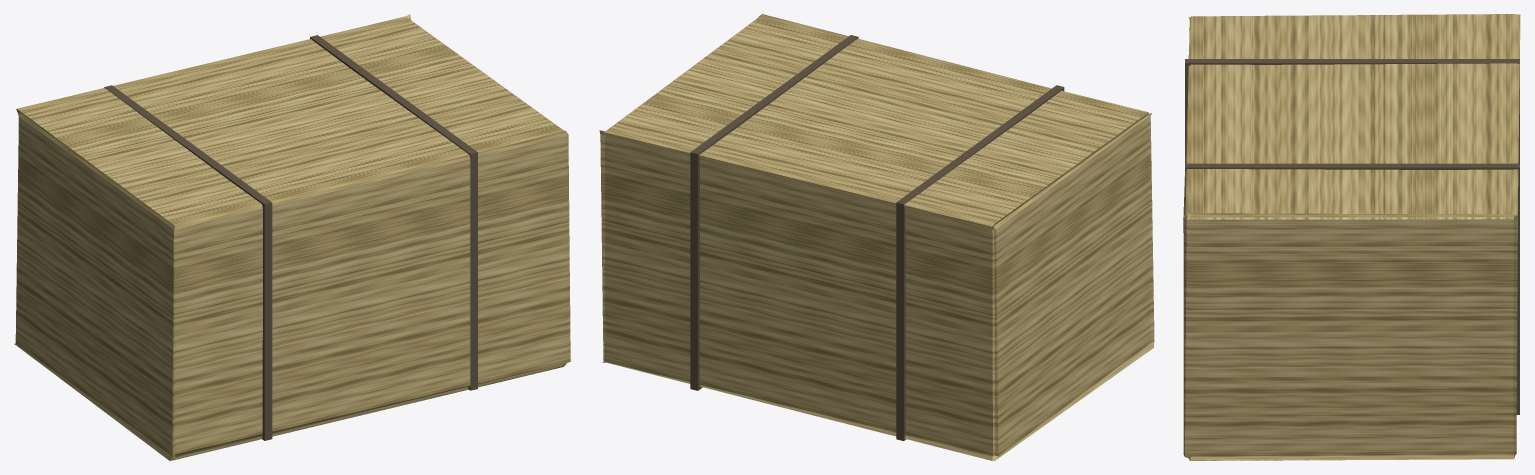
File: hay_bale.glb
3 renders of one model, left to right at view 1: azimuth 30°, elevation 25°; view 2: azimuth 150°, elevation 25°; view 3: azimuth 270°, elevation 25°, orthographic. The views are drawn at different scales.
Parts seen in each view (by area): view 1: HayBale; view 2: HayBale; view 3: HayBale.
Boxes of the visible parts, x1,y1,x2,y2 form: HayBale: [14, 14, 570, 460]; HayBale: [599, 14, 1154, 460]; HayBale: [1183, 14, 1520, 460].
Bounding box in the file's own units: 1.3 × 0.7402 × 0.9096.
2 materials, 1 textured.
